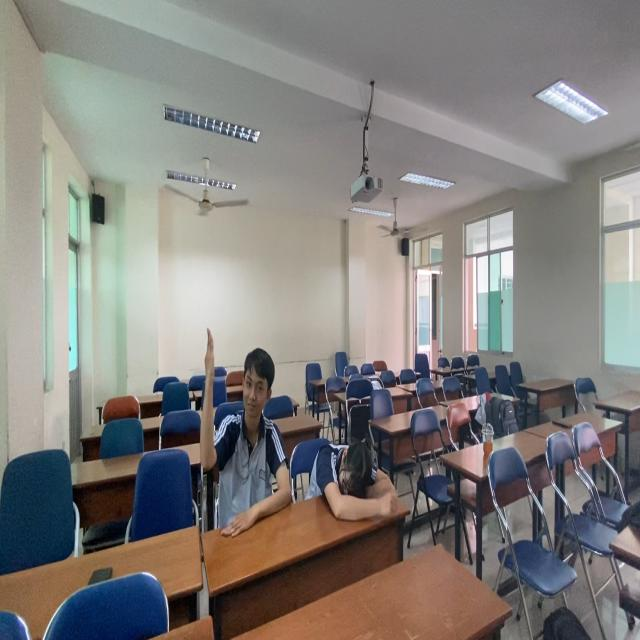raise_hand: (201, 324, 286, 504)
sleep: (313, 428, 403, 533)
